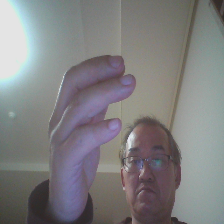hand: (41, 41, 136, 224)
